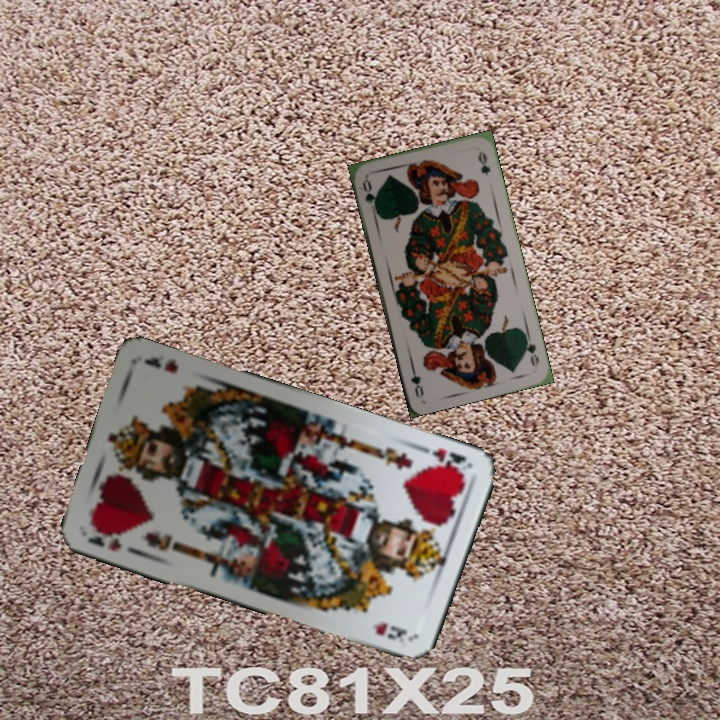GO: (358, 176, 380, 215), (521, 330, 542, 370)
HK: (416, 441, 474, 478), (84, 525, 125, 553)
